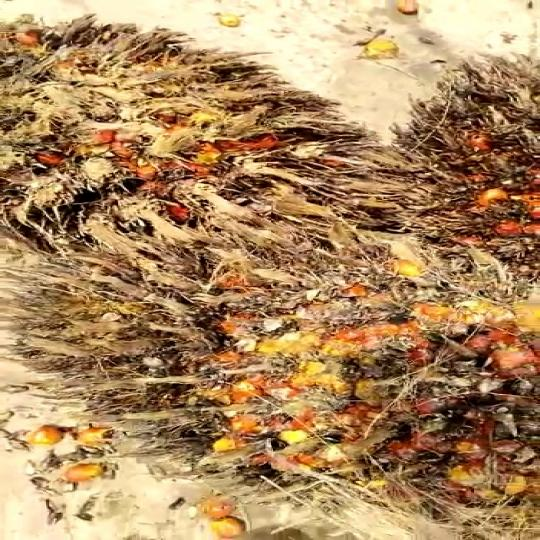terlalu masak: (0, 228, 529, 486), (0, 18, 359, 260)
